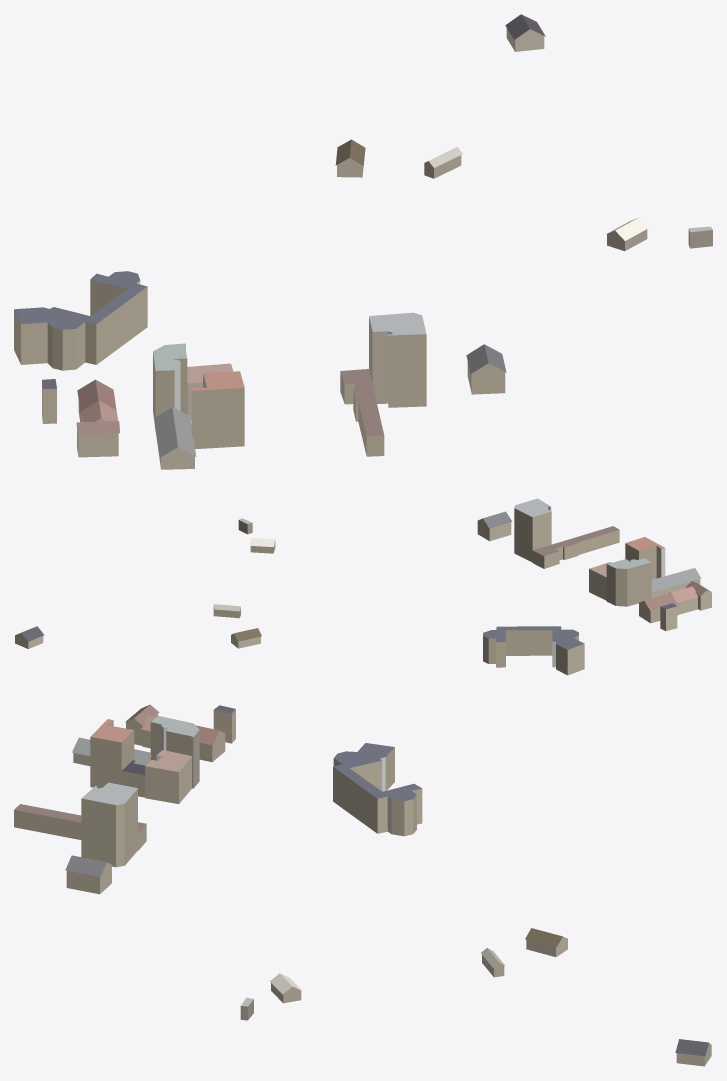
3 renders of one model, top to bottom at view 1: azimuth 30°, elevation 25°; view 2: azimuth 150°, elevation 25°; view 3: azimuth 270°, elevation 25°, orthographic. The views are drawn at different scales.
Parts seen in each view (by area): view 1: tuile; view 2: tuile; view 3: tuile.
Part boxes in pixels (x1,y1,x2,y2): tuile: (14,14,712,469); tuile: (15,498,711,675); tuile: (14,704,711,1066).
Bounding box in the file's own units: 253 × 28.57 × 226.
